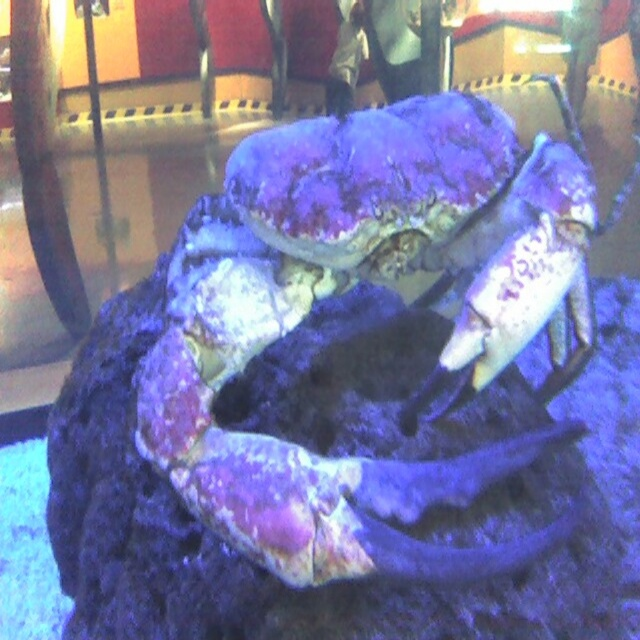Crab: (128, 87, 611, 601)
